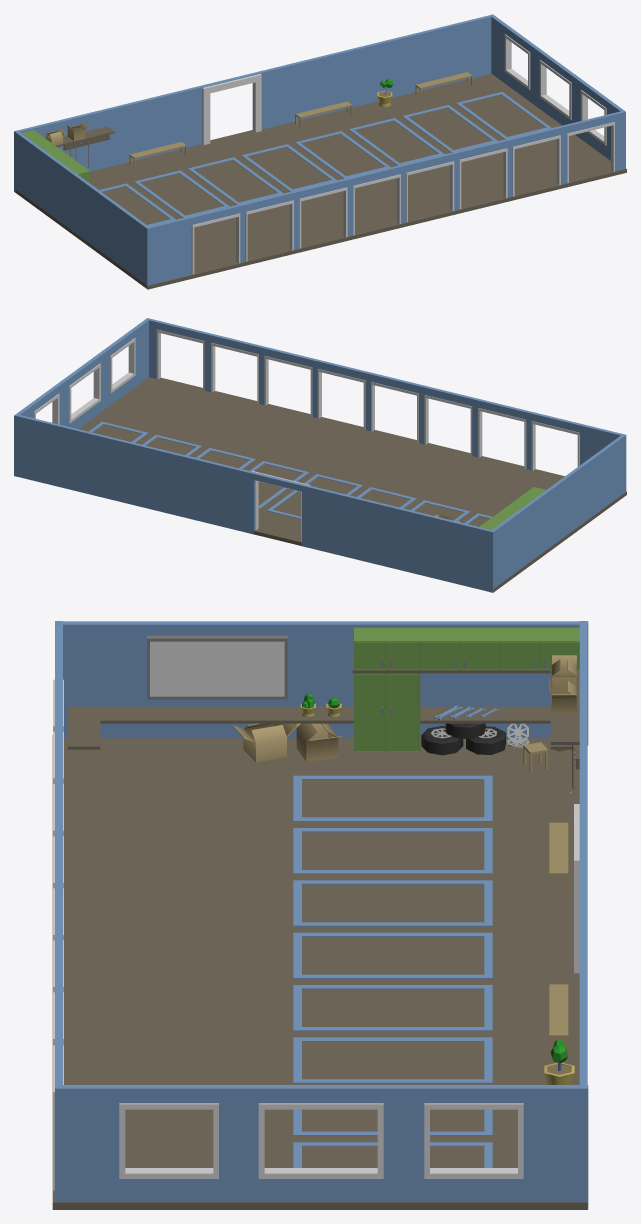
Rendered from голубоватые.fbx.
3 views of the same model, one above another, from view 1: azimuth 30°, elevation 25°; view 2: azimuth 150°, elevation 25°; view 3: azimuth 270°, elevation 25° (orthographic). The views are drawn at different scales.
Visible parts, largest first — view 1: pCube1, pCube56, pCube51, pCube54, pCube63, pCube4, pCube57; view 2: pCube56, pCube1, pCube51, pCube54, pCube4; view 3: pCube1, pCube56, pCube54, pCube4, pCube51, pCube53, pCube30, pCube57, pCube63, pTorus4, pCube31, pCylinder20.
Part boxes in pixels (x1,y1,x2,y2): pCube1: (16,73,626,289); pCube56: (14,14,625,288); pCube51: (191,34,614,274); pCube54: (99,91,551,226); pCube63: (129,72,472,167); pCube4: (21,130,90,183); pCube57: (42,122,88,145); pCube56: (14,318,626,592); pCube1: (78,377,626,592); pCube51: (33,329,579,546); pCube54: (89,421,492,523); pCube4: (479,487,545,529); pCube1: (52,735,587,1209); pCube56: (55,621,588,1209); pCube54: (293,775,492,1167); pCube4: (354,627,579,752); pCube51: (53,679,579,1190); pCube53: (67,656,579,749); pCube30: (150,641,284,696); pCube57: (231,655,576,762); pCube63: (523,742,568,1055); pTorus4: (421,723,505,755); pCube31: (147,635,287,699); pCylinder20: (300,693,574,1084).
Size of the model in its own units: 48.85 by 5.94 by 23.58.
